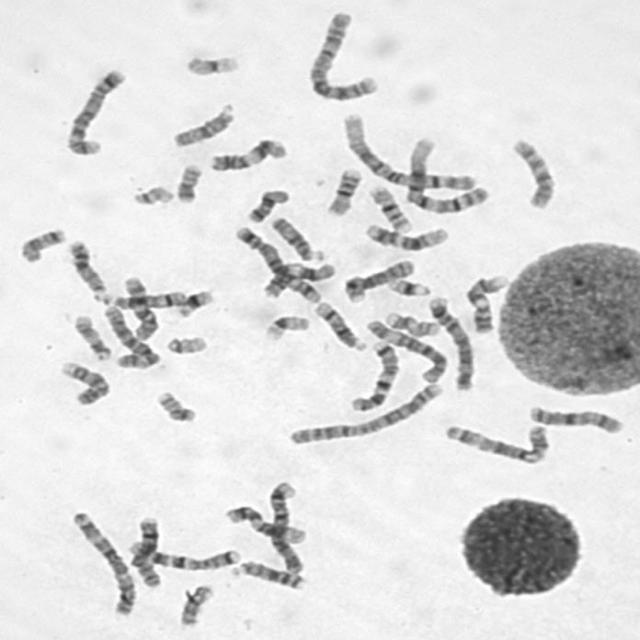A1: (337, 109, 481, 192), (400, 134, 491, 216)
A2: (283, 378, 447, 448), (304, 8, 382, 102)
A3: (66, 508, 138, 618), (440, 420, 552, 466)
B4: (424, 292, 476, 392), (264, 478, 306, 576)
B5: (230, 222, 324, 304), (61, 64, 127, 157)
C10: (507, 134, 557, 210), (118, 272, 160, 342)
C11: (258, 258, 338, 299), (205, 135, 289, 173)
C12: (221, 502, 309, 544), (360, 220, 450, 252)
C6: (362, 316, 450, 385), (99, 302, 162, 371)
C7: (123, 536, 243, 572), (346, 337, 402, 414)
C8: (340, 256, 418, 304), (128, 513, 164, 589)
C9: (462, 270, 510, 334), (55, 357, 112, 407)
D13: (62, 236, 110, 302), (226, 558, 307, 592)
D14: (310, 298, 368, 352), (108, 286, 188, 310)
D15: (168, 99, 238, 149), (266, 214, 326, 263)
E16: (364, 181, 415, 233), (321, 165, 363, 217)
E17: (69, 311, 112, 362), (381, 307, 443, 338)
E18: (15, 224, 67, 264), (242, 185, 290, 224)
F19: (180, 51, 242, 78), (260, 312, 311, 342)
F20: (152, 387, 198, 424), (172, 160, 203, 205)
G21: (171, 286, 215, 320), (384, 274, 432, 298)
G22: (128, 181, 176, 207), (162, 332, 209, 356)
X: (524, 402, 624, 436)
